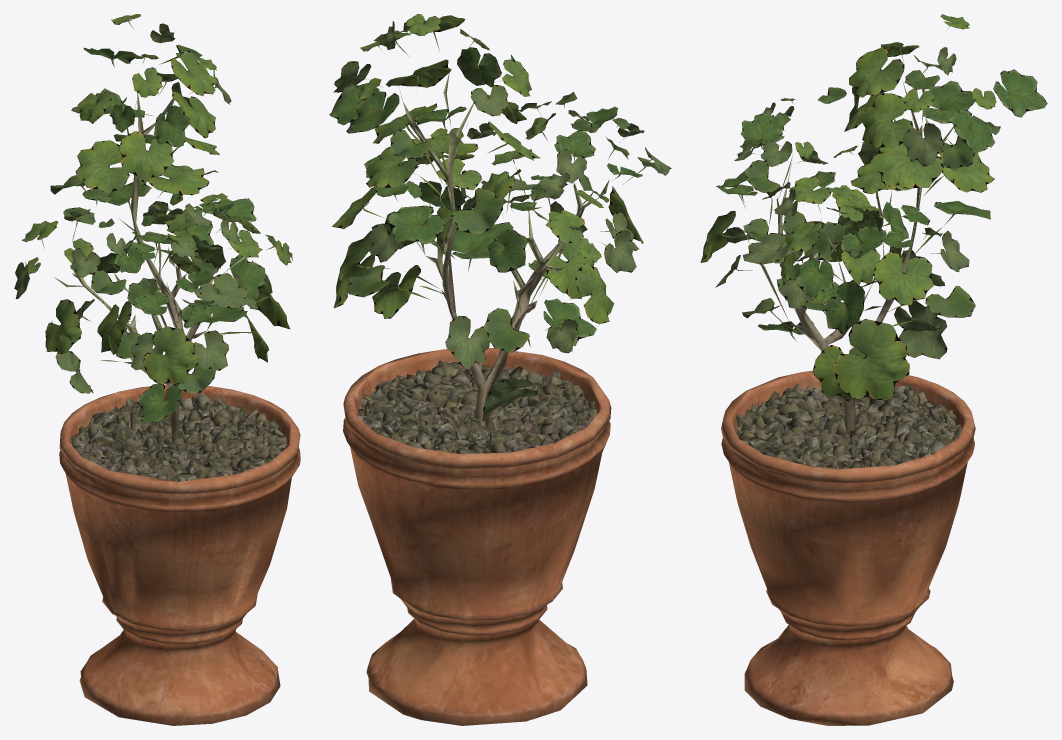
File: potted_plant_01.glb
3 views of the same model, side by side, from view 1: azimuth 30°, elevation 25°; view 2: azimuth 150°, elevation 25°; view 3: azimuth 270°, elevation 25° (orthographic). The views are drawn at different scales.
Parts seen in each view (by area): view 1: potted_plant_01_stem, potted_plant_01_leaves; view 2: potted_plant_01_stem, potted_plant_01_leaves; view 3: potted_plant_01_stem, potted_plant_01_leaves.
Part boxes in pixels (left/top/right/bottom): potted_plant_01_stem: left=54, top=90, right=300, bottom=725; potted_plant_01_leaves: left=14, top=14, right=292, bottom=423; potted_plant_01_stem: left=343, top=72, right=611, bottom=725; potted_plant_01_leaves: left=329, top=14, right=671, bottom=414; potted_plant_01_stem: left=721, top=81, right=975, bottom=725; potted_plant_01_leaves: left=700, top=14, right=1047, bottom=400.
Size of the model in its own units: 0.5866 by 1.34 by 0.6336.
Materials: 2 (2 with a texture image).
